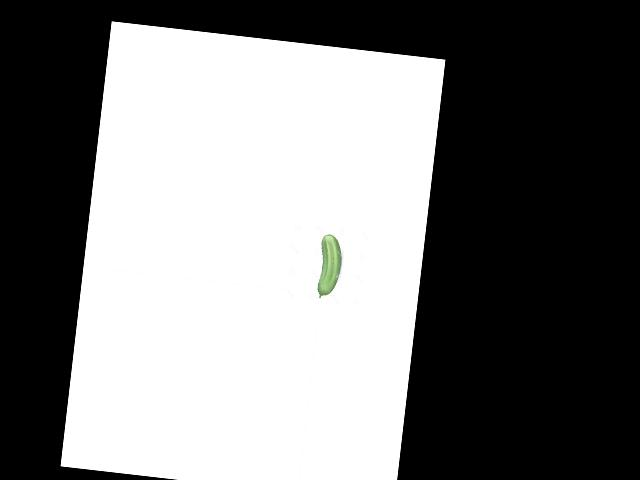cucumber: (315, 233, 344, 299)
